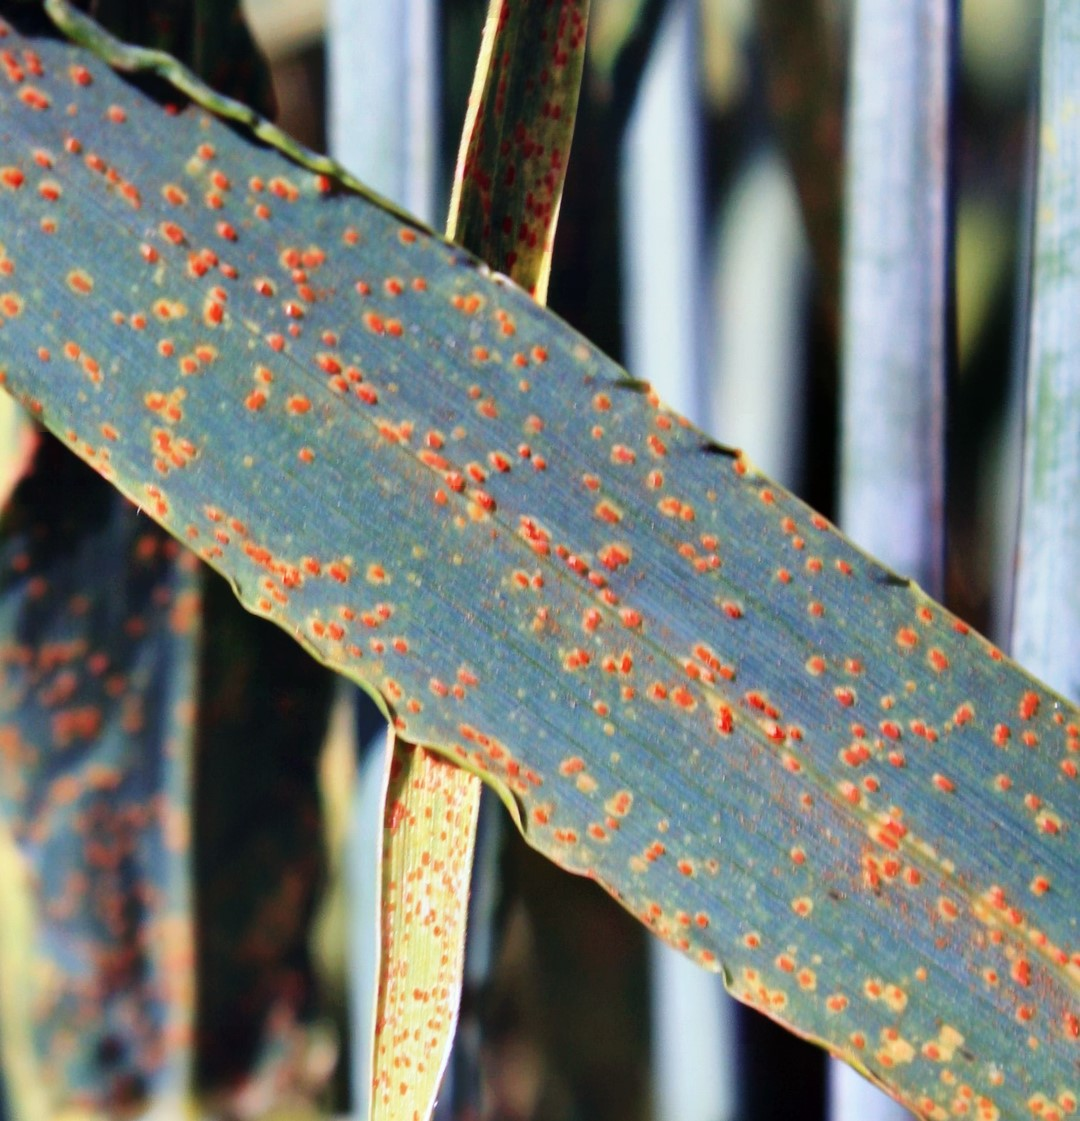Leaf Rust: (42, 149, 1080, 1037)
